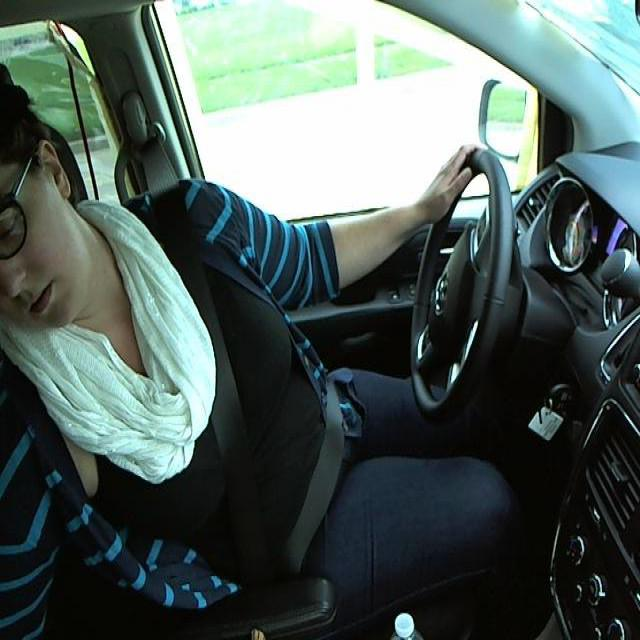seatbelt: (174, 281, 297, 567)
